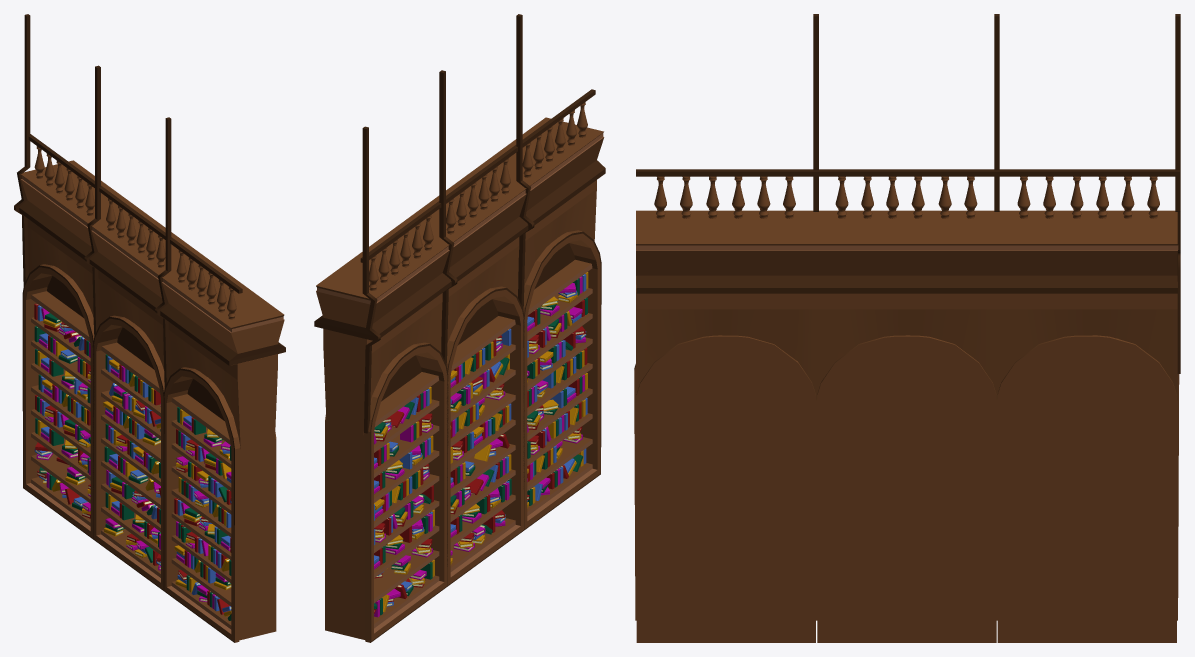
The model's file is muurkasten.fbx.
The picture shows the model from 3 angles, left to right: view 1: azimuth 30°, elevation 25°; view 2: azimuth 150°, elevation 25°; view 3: azimuth 270°, elevation 25°; orthographic projection. The views are drawn at different scales.
Parts seen in each view (by area): view 1: main_closet1, books1, fence_and_wire_detail1; view 2: main_closet1, books1, fence_and_wire_detail1; view 3: main_closet1, fence_and_wire_detail1.
Boxes of the visible parts, x1,y1,x2,y2 form: main_closet1: (19,160,285,642); books1: (34,303,231,620); fence_and_wire_detail1: (14,14,242,387); main_closet1: (314,117,605,642); books1: (374,272,588,617); fence_and_wire_detail1: (360,14,595,433); main_closet1: (634,210,1179,642); fence_and_wire_detail1: (636,14,1180,373).
Bounding box in the file's own units: 2.9 × 21.83 × 17.87.
